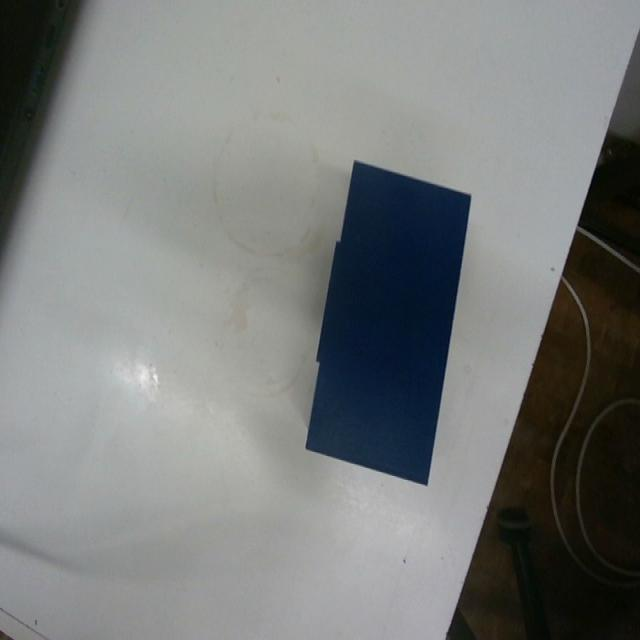Blue Cuboid: (303, 156, 472, 487)
